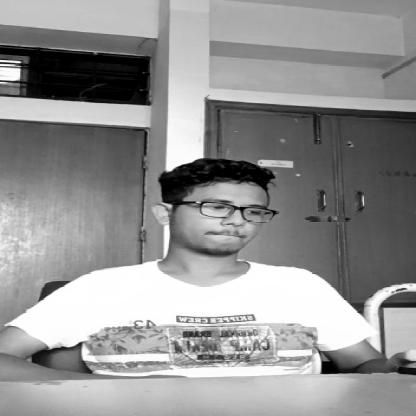Distracted: (164, 163, 289, 257)
